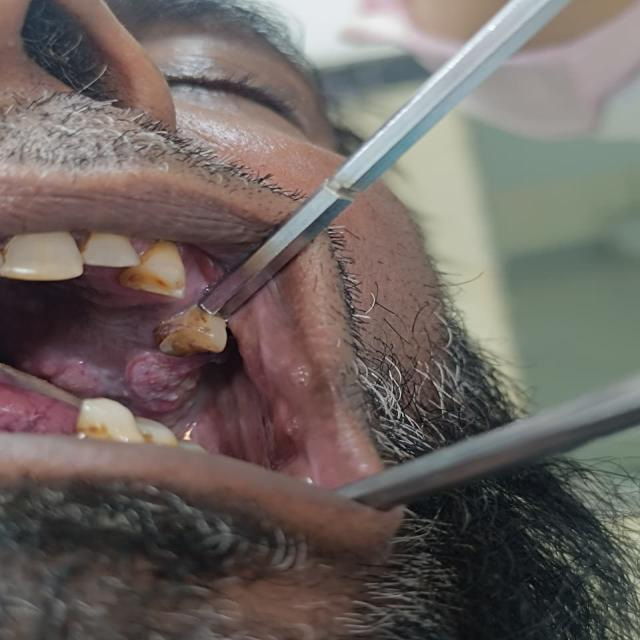cancer-detection: (18, 343, 209, 431)
processing_area: (19, 271, 342, 478)
